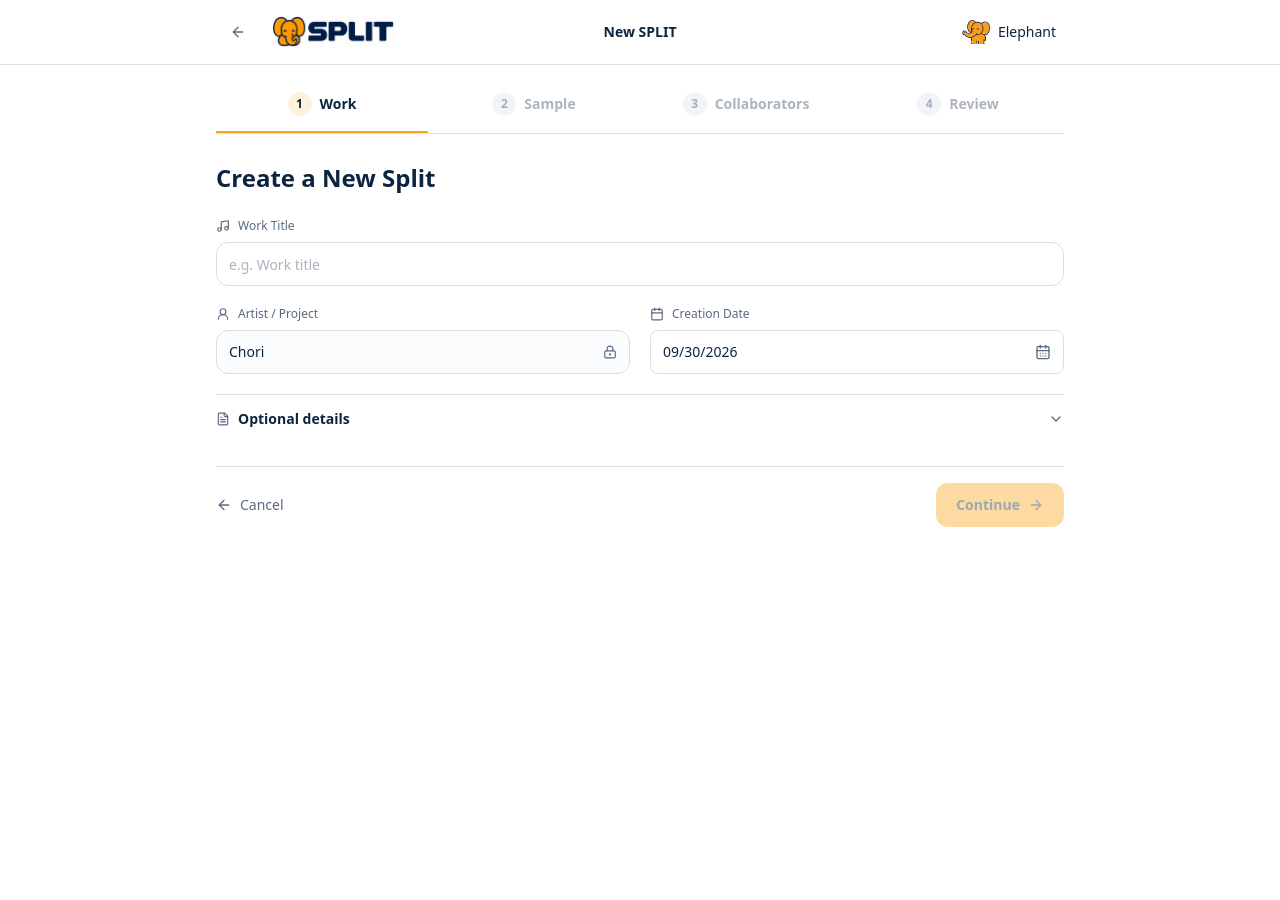
new split defaults › does not initialize another account's builder from a late response
Type "Second account" into the field with placeholder "e.g. Work title" at (640, 264), box [216,242,1064,286]
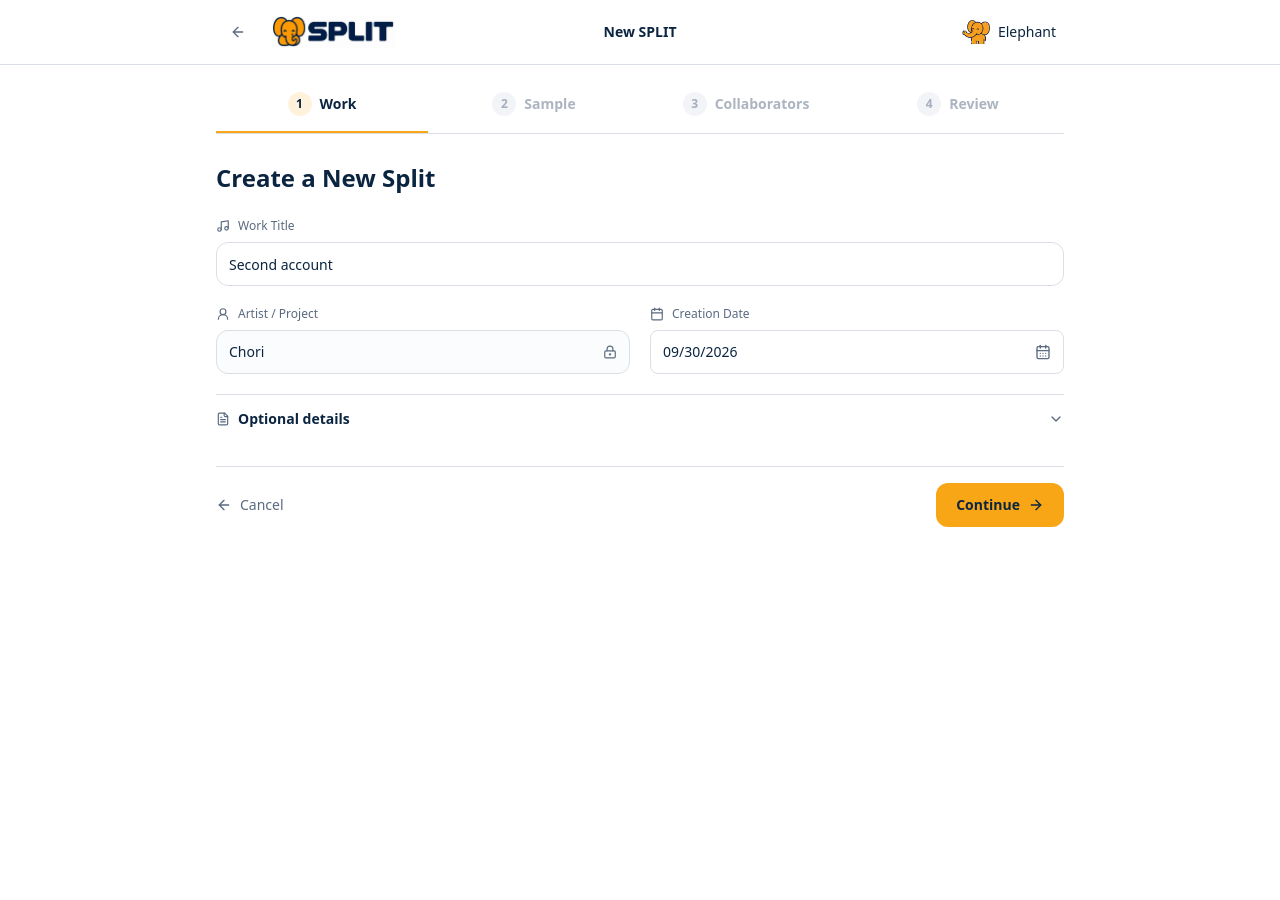
Click the button "Continue" at (1000, 505), box [936,483,1064,527]
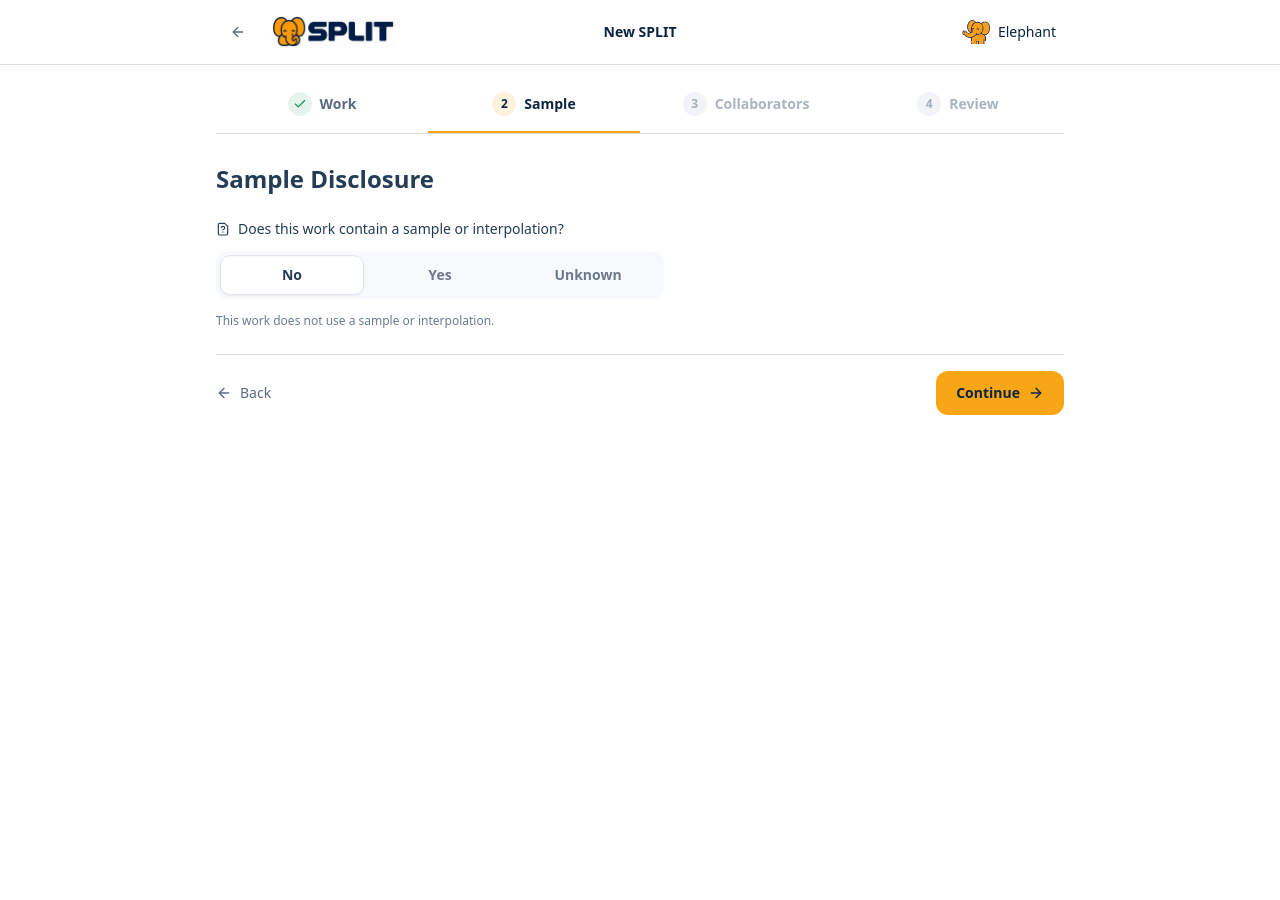
Click the button "Continue" at (1000, 393), box [936,371,1064,415]
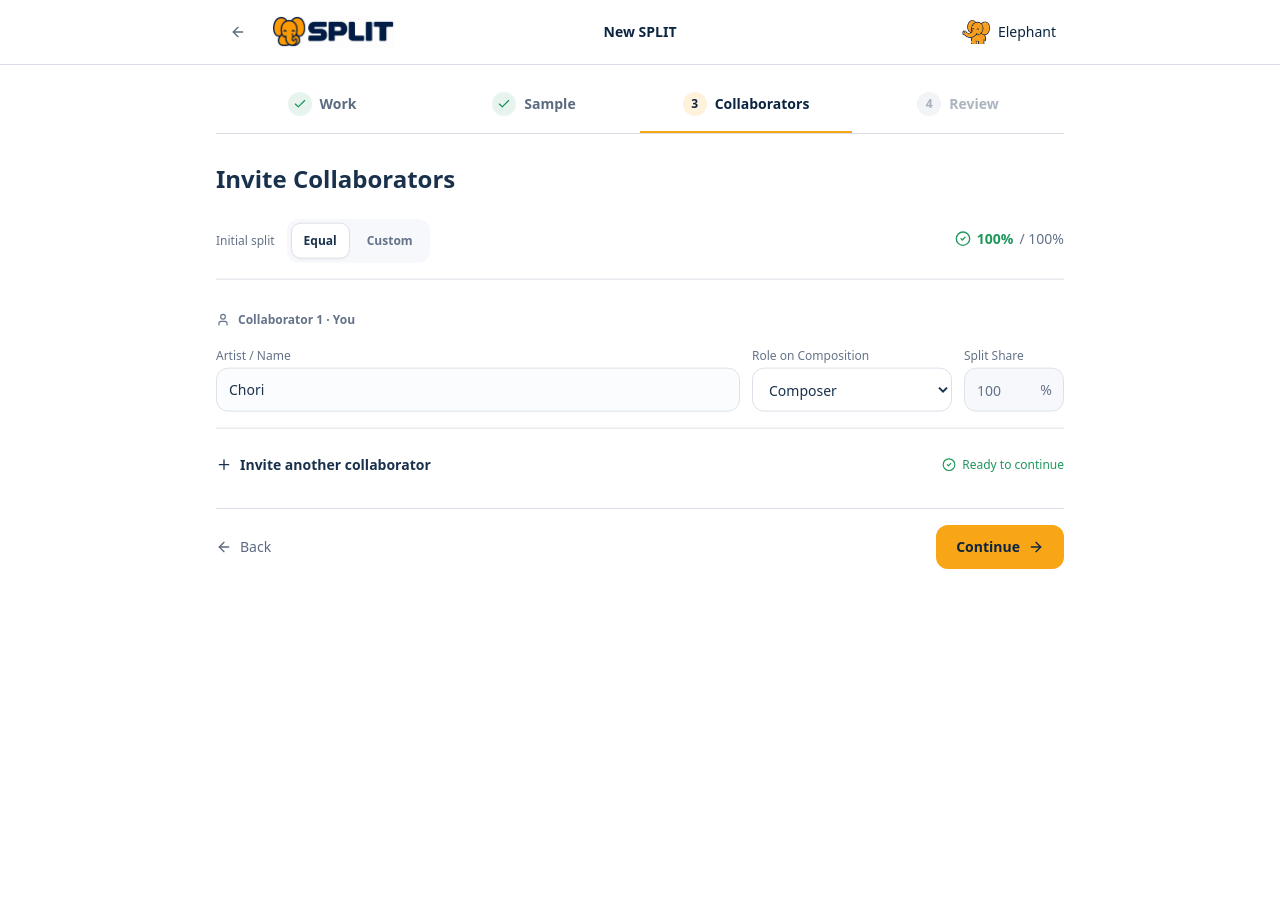
Click the button "Continue" at (1000, 547), box [936,525,1064,569]
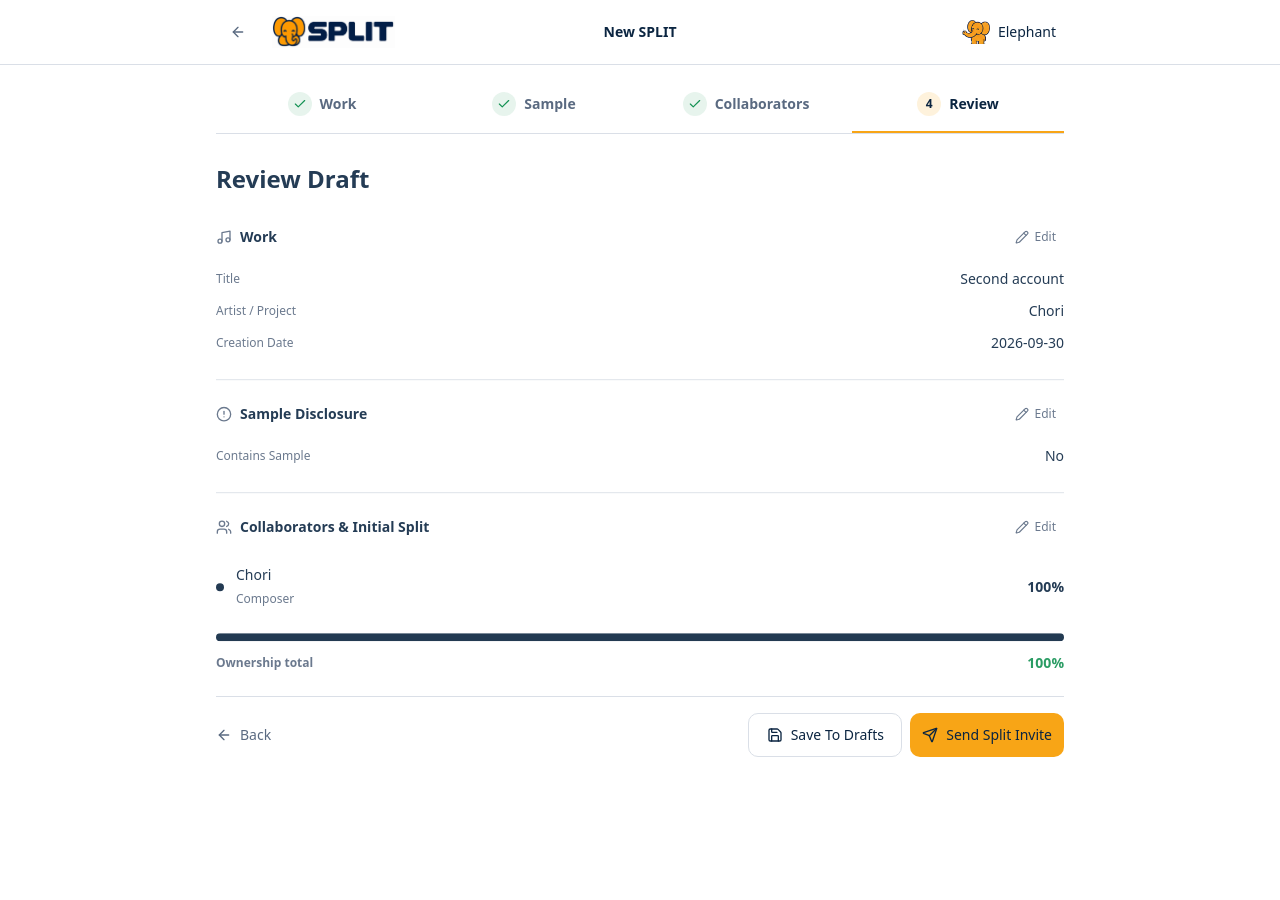
Result: the text "Composer" is shown at [236,589,294,606]
